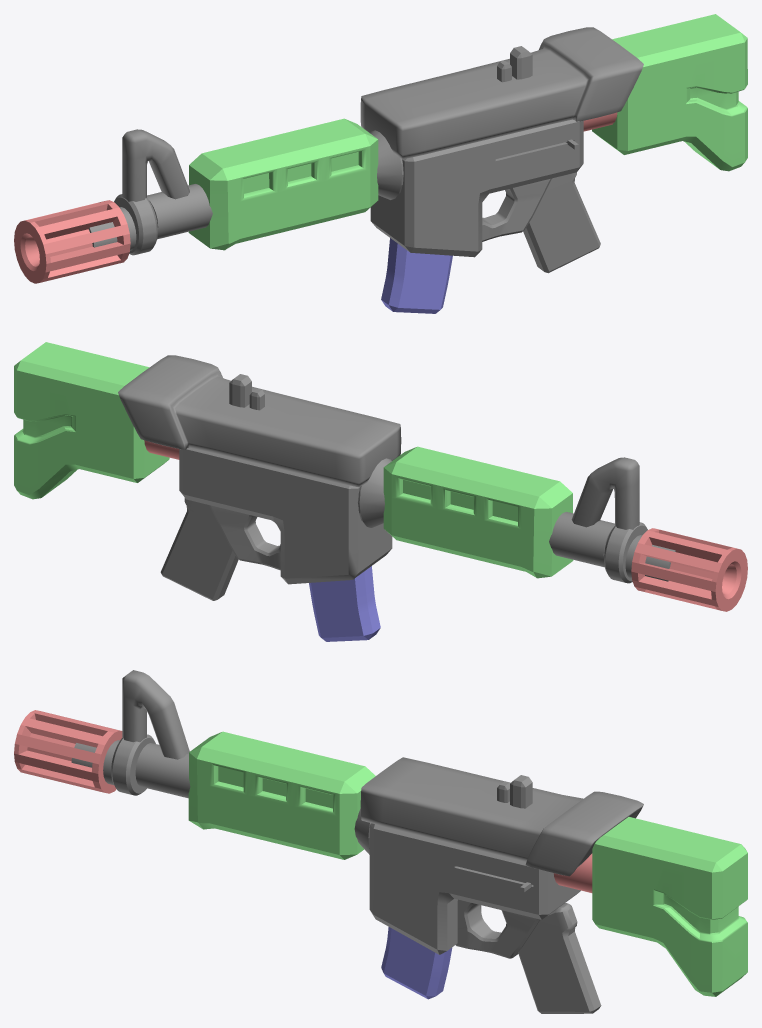
File: ModernRifle.fbx
The picture shows the model from 3 angles, top to bottom: view 1: azimuth 30°, elevation 25°; view 2: azimuth 150°, elevation 25°; view 3: azimuth 330°, elevation 25°; orthographic projection.
Visible parts, largest first — view 1: SM_ModernRifle_Metal; view 2: SM_ModernRifle_Metal; view 3: SM_ModernRifle_Metal.
Boxes of the visible parts, x1=… form: SM_ModernRifle_Metal: x1=14, y1=14, x2=747, y2=313; SM_ModernRifle_Metal: x1=14, y1=342, x2=747, y2=641; SM_ModernRifle_Metal: x1=14, y1=670, x2=747, y2=1013.
Size of the model in its own units: 155 by 52.72 by 20.56.
